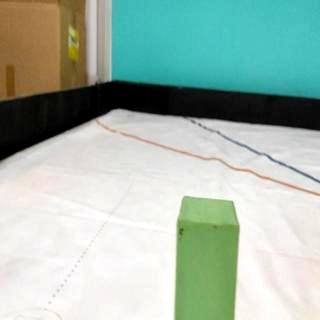greenbox: (176, 195, 240, 320)
